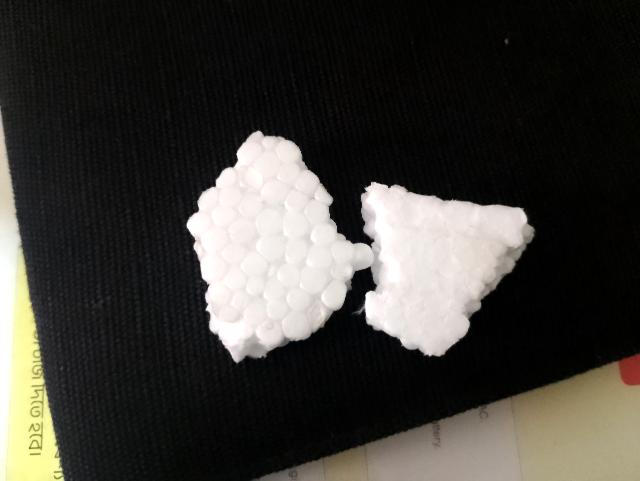cocksheet: (138, 111, 377, 363), (336, 178, 539, 369)
